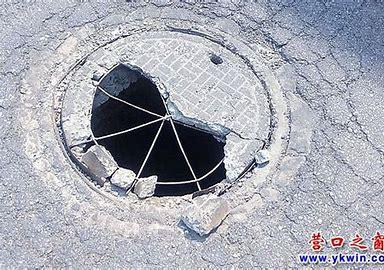wellcover: (58, 22, 273, 213)
